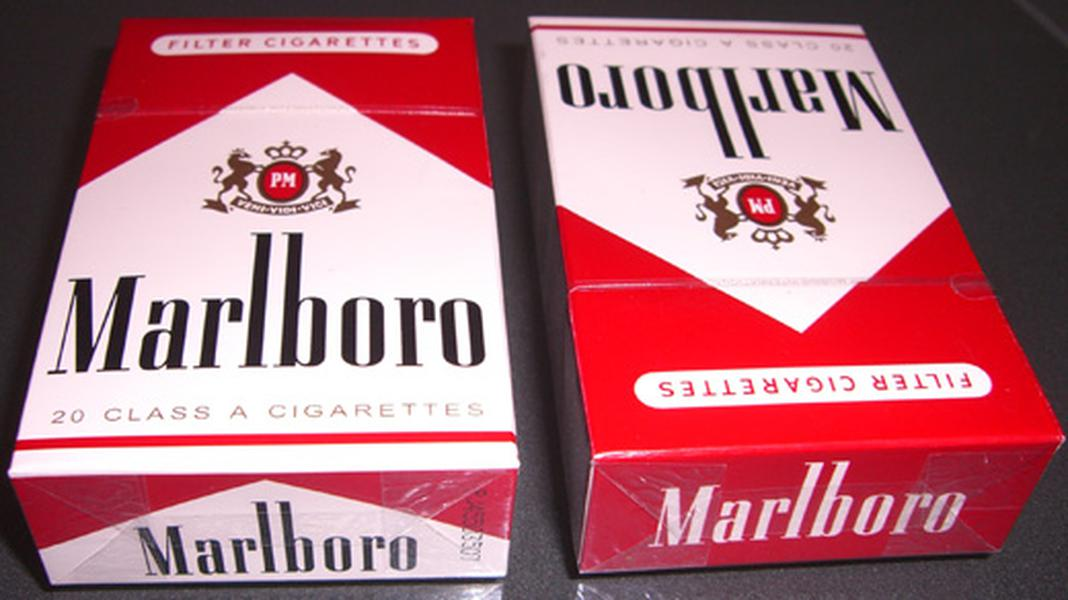marlboro_red: (49, 24, 510, 478), (555, 17, 908, 452)
